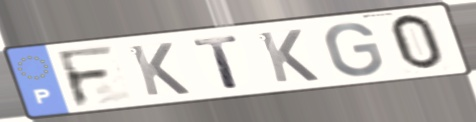0: (387, 12, 449, 75)
F: (53, 44, 119, 110)
G: (322, 21, 387, 78)
K: (255, 27, 323, 85), (126, 41, 193, 98)
T: (190, 34, 244, 91)
